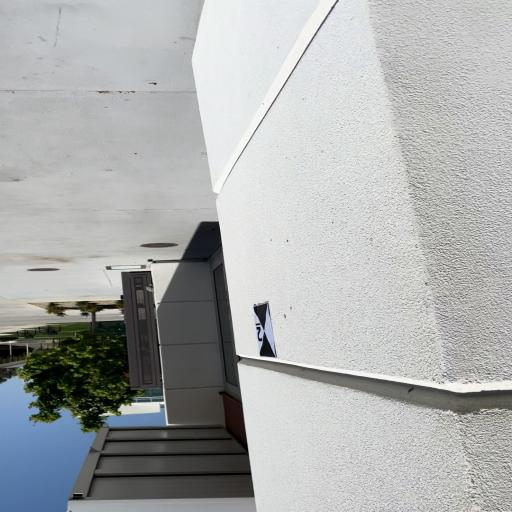target2: (252, 302, 277, 357)
